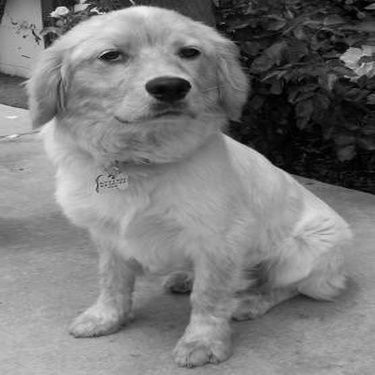dog: (22, 1, 361, 371)
